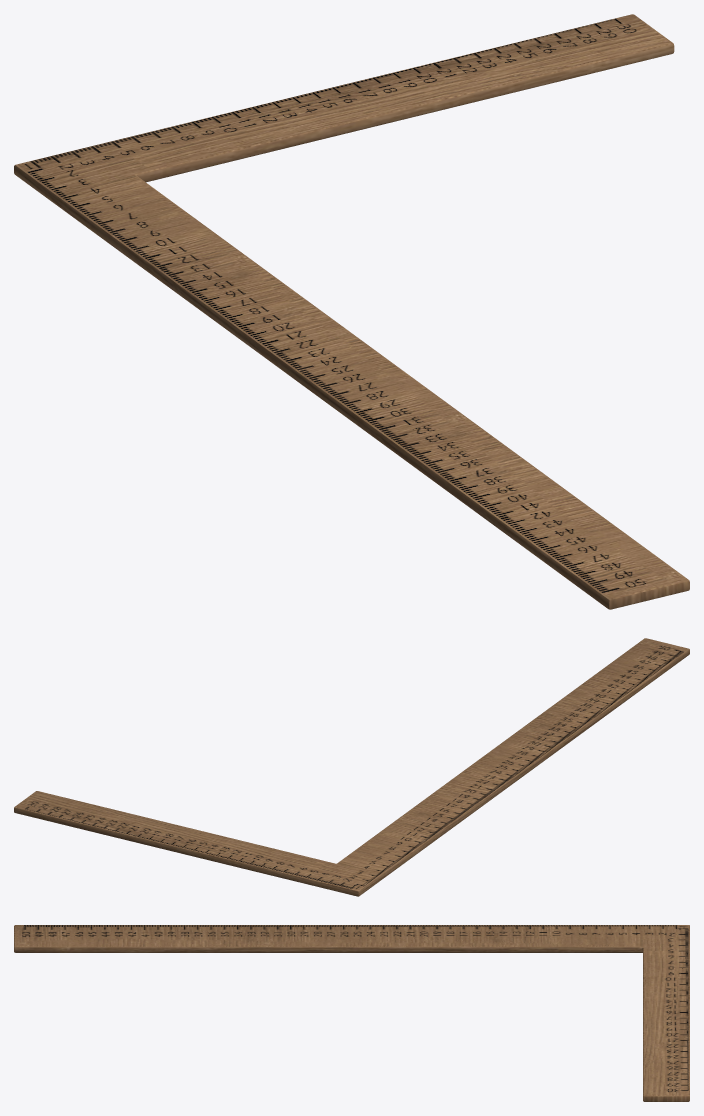
Rendered from SetSquares.fbx.
3 views of the same model, one above another, from view 1: azimuth 30°, elevation 25°; view 2: azimuth 150°, elevation 25°; view 3: azimuth 270°, elevation 25° (orthographic). The views are drawn at different scales.
Visible parts, largest first — view 1: set squares; view 2: set squares; view 3: set squares.
Boxes of the visible parts, x1,y1,x2,y2 form: set squares: (14,14,689,609); set squares: (14,638,689,896); set squares: (14,925,689,1101).
Bounding box in the file's own units: 11.82 × 0.1969 × 19.67.
